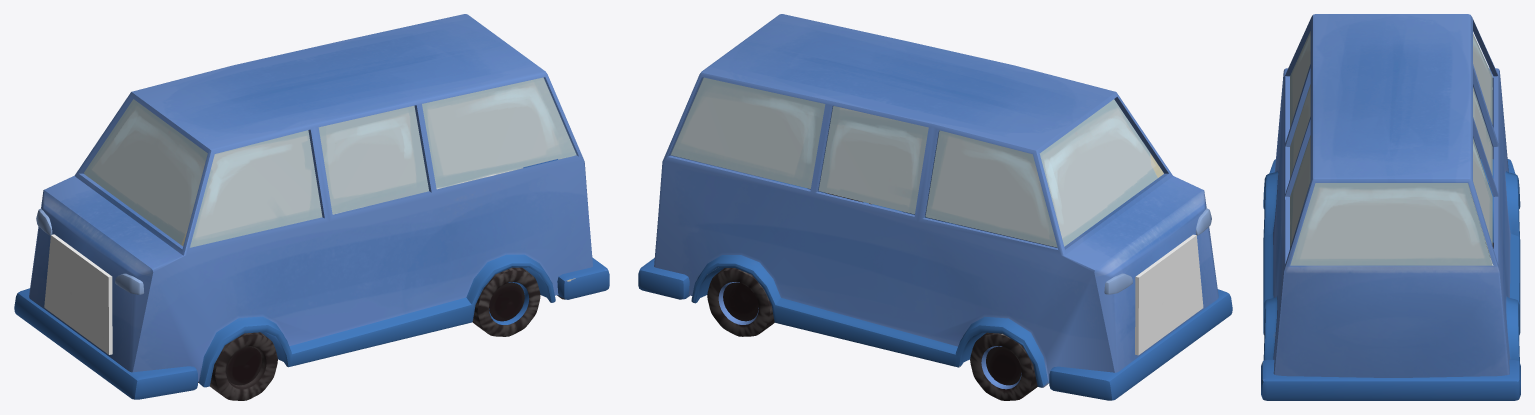
The model's file is Furgo4.fbx.
3 views of the same model, side by side, from view 1: azimuth 30°, elevation 25°; view 2: azimuth 150°, elevation 25°; view 3: azimuth 270°, elevation 25° (orthographic).
Parts seen in each view (by area): view 1: furgo; view 2: furgo; view 3: furgo.
Boxes of the visible parts, x1=… form: furgo: x1=14, y1=14, x2=609, y2=400; furgo: x1=638, y1=14, x2=1232, y2=400; furgo: x1=1261, y1=14, x2=1520, y2=400.
Bounding box in the file's own units: 436 × 212 × 212.
